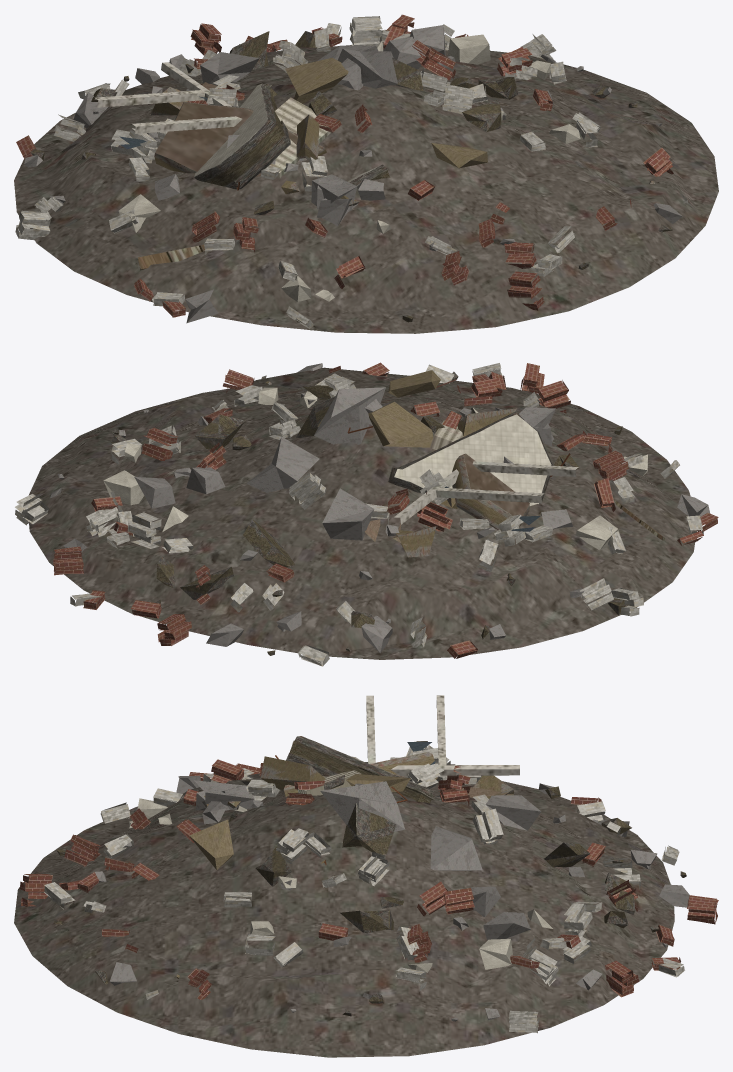
The model's file is rubble_9.glb.
The picture shows the model from 3 angles, top to bottom: view 1: azimuth 30°, elevation 25°; view 2: azimuth 150°, elevation 25°; view 3: azimuth 270°, elevation 25°; orthographic projection. The views are drawn at different scales.
Visible parts, largest first — view 1: rubble_9; view 2: rubble_9; view 3: rubble_9.
Part boxes in pixels (<box>): rubble_9: <box>14,14,718,333</box>; rubble_9: <box>15,362,718,666</box>; rubble_9: <box>14,695,718,1057</box>.
Size of the model in its own units: 6.46 by 1.41 by 6.51.
Materials: 1 (1 with a texture image).
